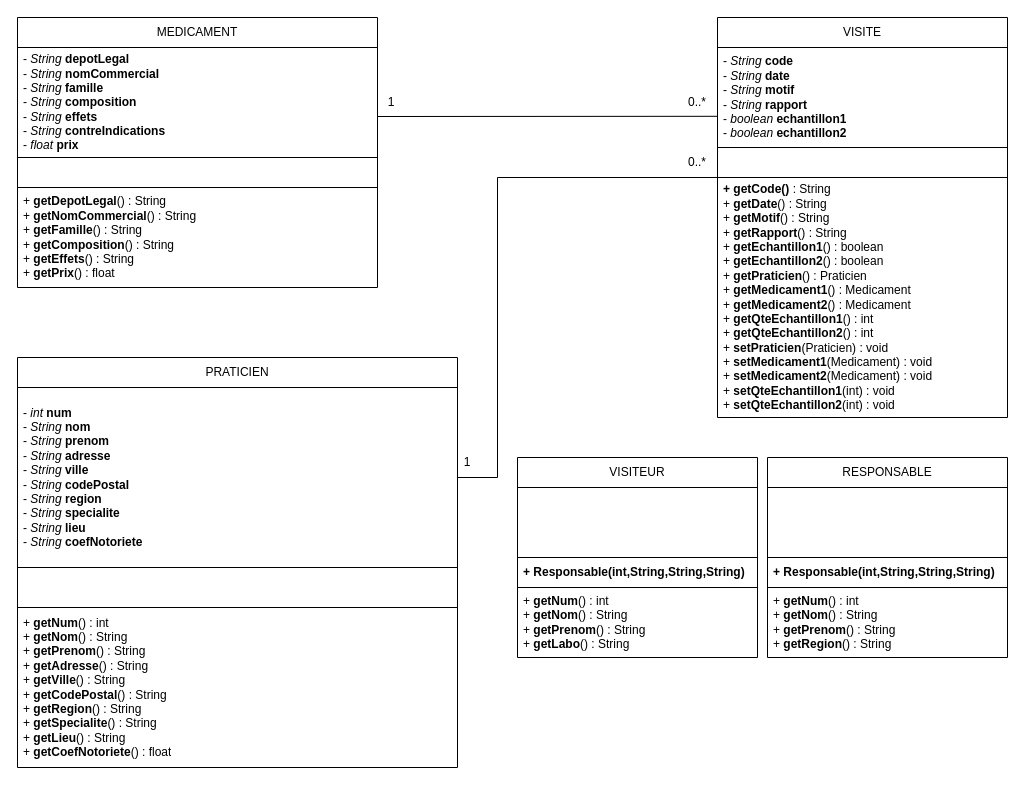
The diagram is 1025 pixels wide and 785 high, and some of its shapes have lost their labels. The centre of each missing label's shape, as x and y in pixels:
+ Medicament(String,String,String,String,String,String,float): the point at 197,172
+ Praticien(int,String,String,String,String,String,String,String,String,String): the point at 237,587
+ Visite(String, String, String, String, bool, bool): the point at 862,162
- int num - String nom - String prenom - String labo: the point at 637,522
- int num - String nom - String prenom - String region: the point at 887,522
